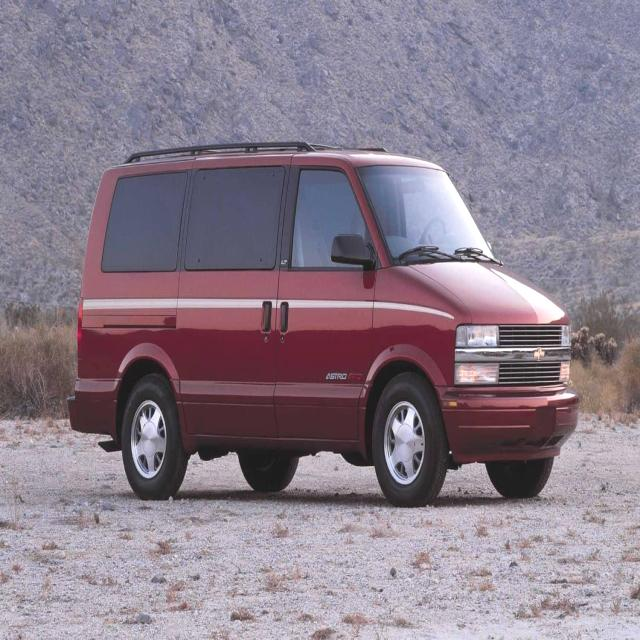Van: (91, 156, 564, 474)
